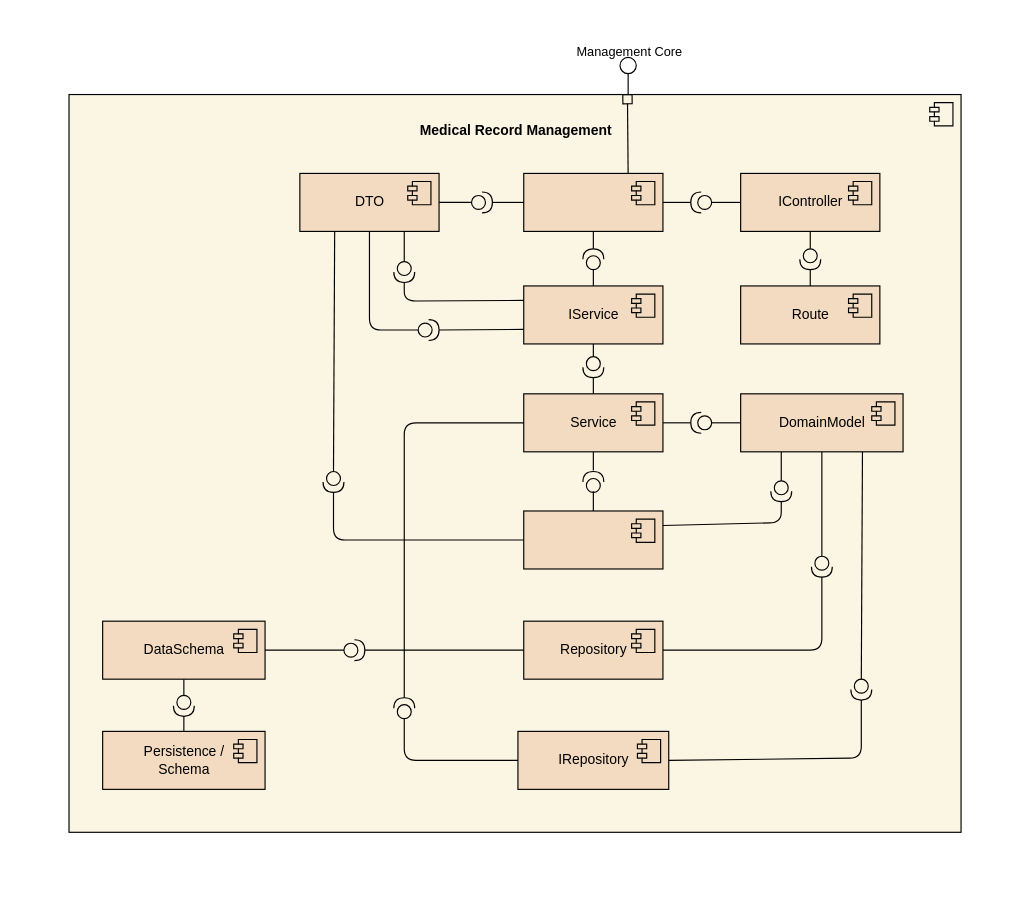
The diagram is 1028 pixels wide and 901 high, and some of its shapes have lost their labels. The shapes that lost their labels are listed below. From the top down, each one's centre as x and y in pixels, then its label:
(x=593, y=201): Controller
(x=593, y=539): Mapper
